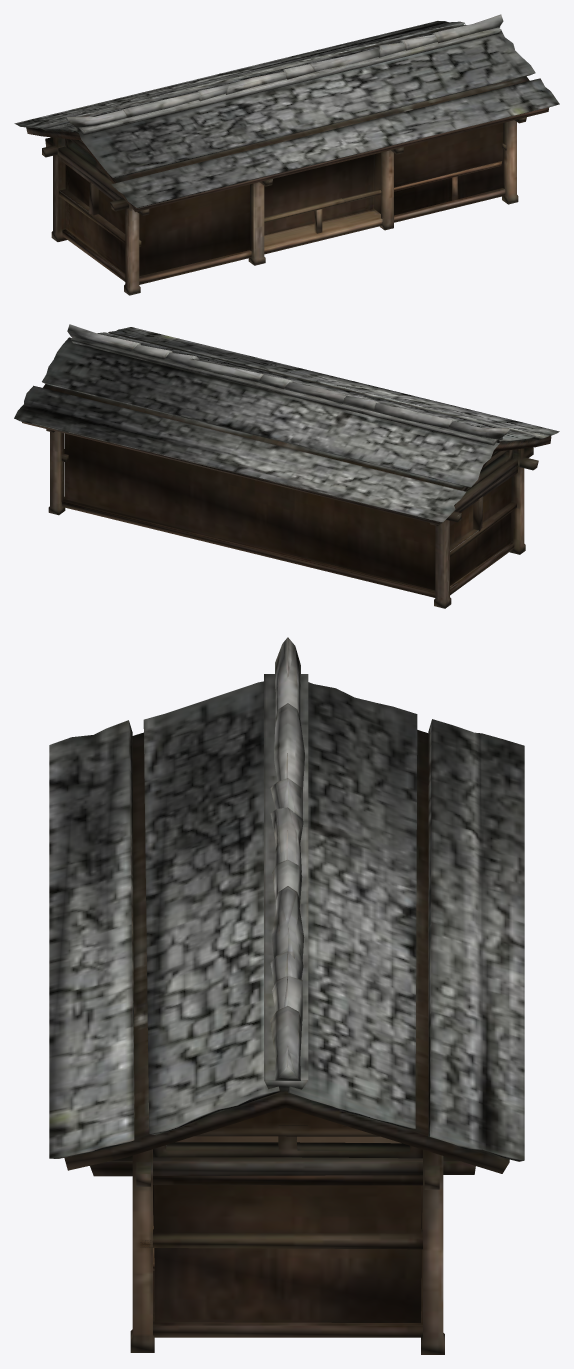
The model's file is caravan-stable.glb.
3 views of the same model, one above another, from view 1: azimuth 30°, elevation 25°; view 2: azimuth 150°, elevation 25°; view 3: azimuth 270°, elevation 25° (orthographic). The views are drawn at different scales.
Parts seen in each view (by area): view 1: caravan-stable; view 2: caravan-stable; view 3: caravan-stable.
Boxes of the visible parts, x1,y1,x2,y2 form: caravan-stable: (14, 14, 559, 295); caravan-stable: (14, 324, 559, 608); caravan-stable: (49, 637, 524, 1354).
Size of the model in its own units: 10.8 by 3.72 by 5.11.
1 material, 1 textured.
